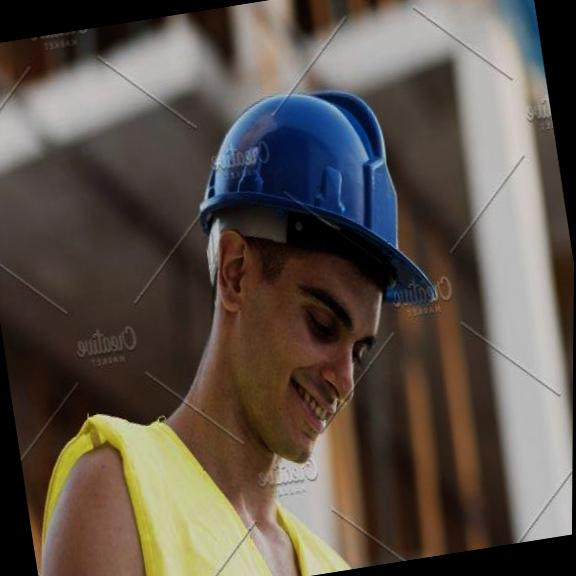safety_vest: (22, 419, 392, 576)
